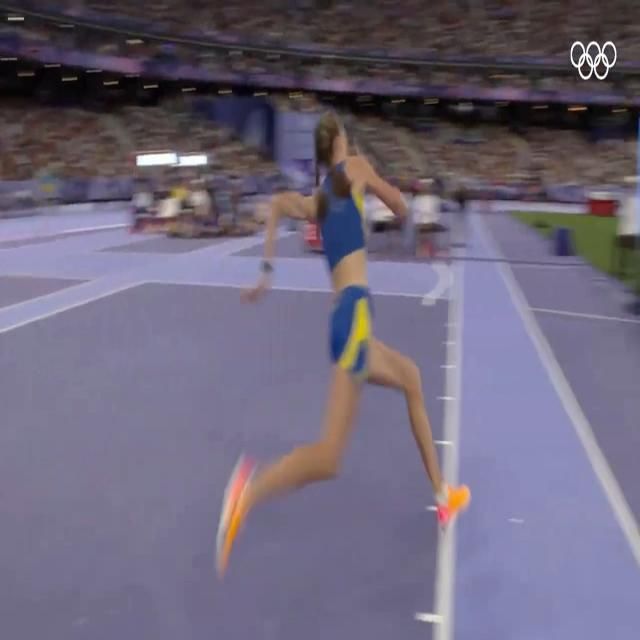run: (214, 99, 468, 616)
